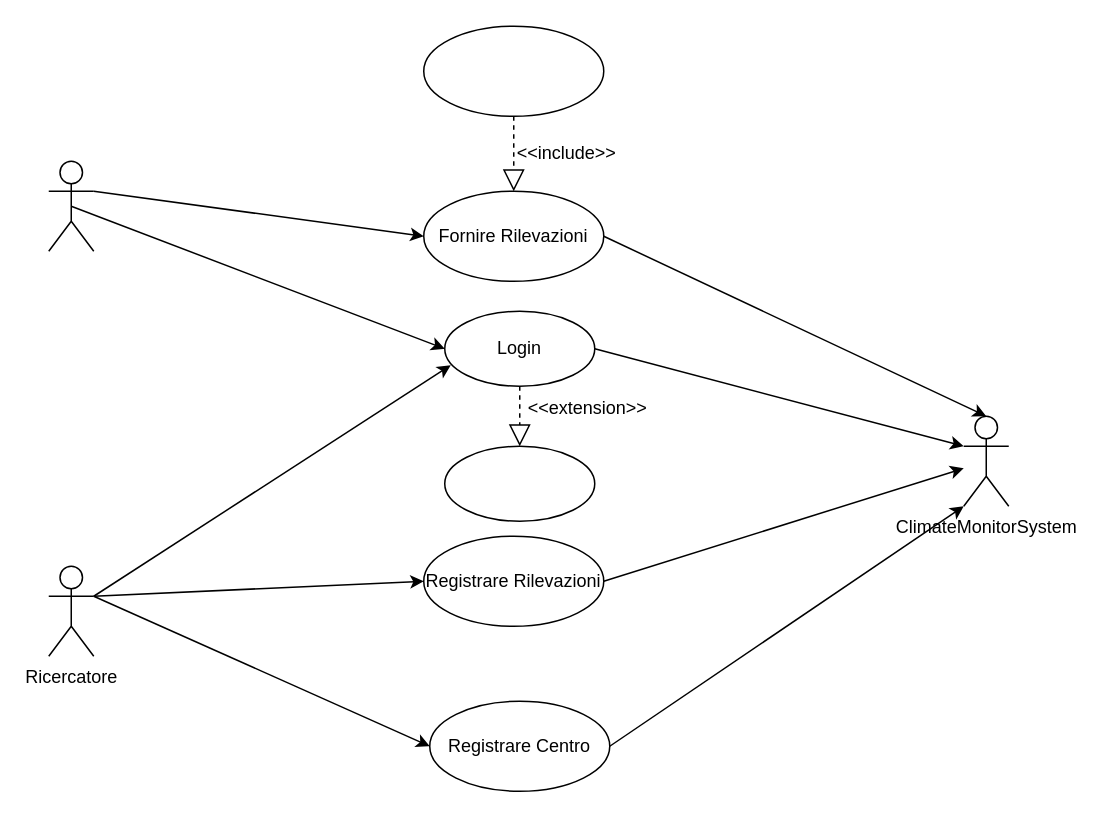
The diagram is 1103 pixels wide and 818 high, and some of its shapes have lost their labels. Here are the shapes that lost their labels. From the top down, the centre of each, then its label:
At point (513, 70): "Coordinate o Nome del luogo".
At point (70, 205): "Utente".
At point (519, 483): "Registarsi".
